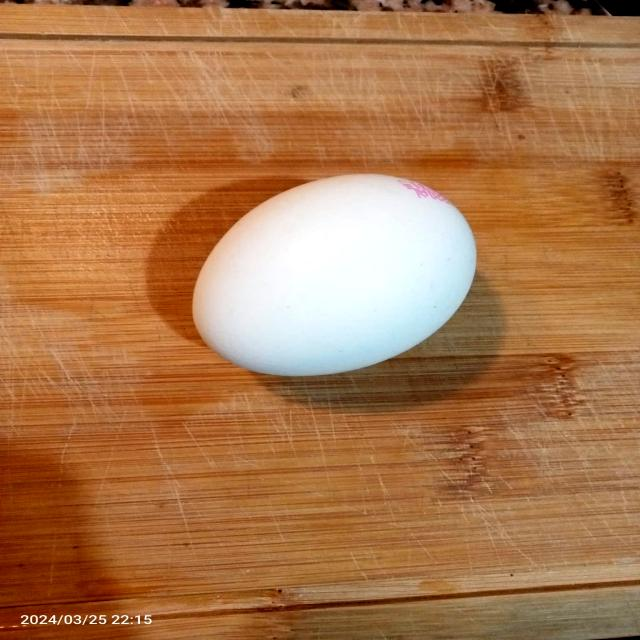egg: (179, 155, 486, 397)
